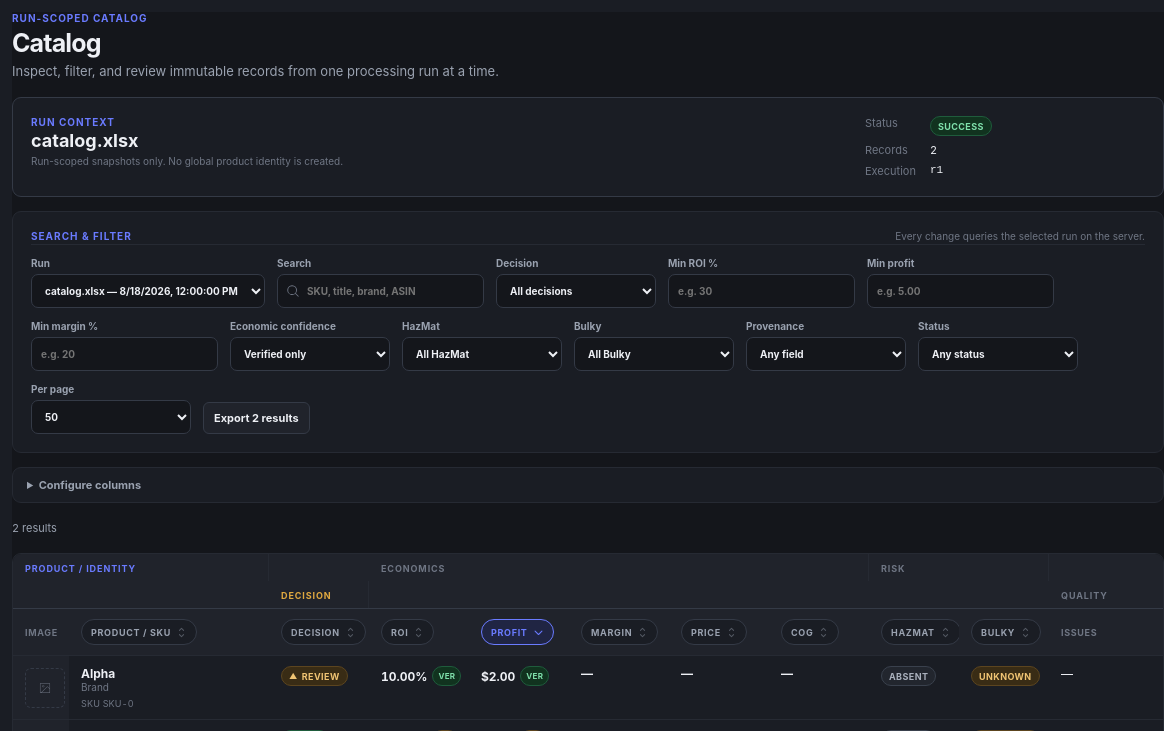
Test: ProductsPage › converts the margin percentage to a canonical ratio too
This screenshot has width=1164, height=731.
Check: the text "Alpha" is shown, box x1=81 y1=666 x2=115 y2=681
Type "12.5" into the number field named "Minimum margin percentage" at (124, 354), box x1=31 y1=337 x2=218 y2=371
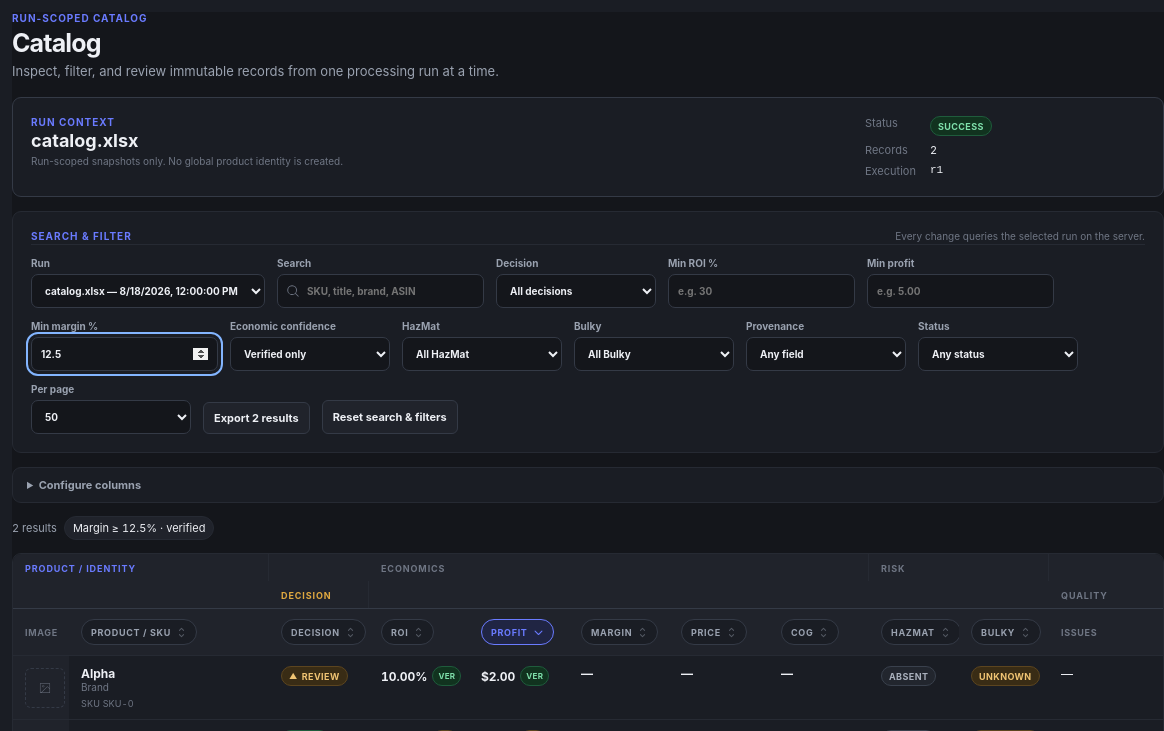
Check: the text "Margin ≥ 12.5% · verified" is shown, box x1=64 y1=516 x2=214 y2=540
